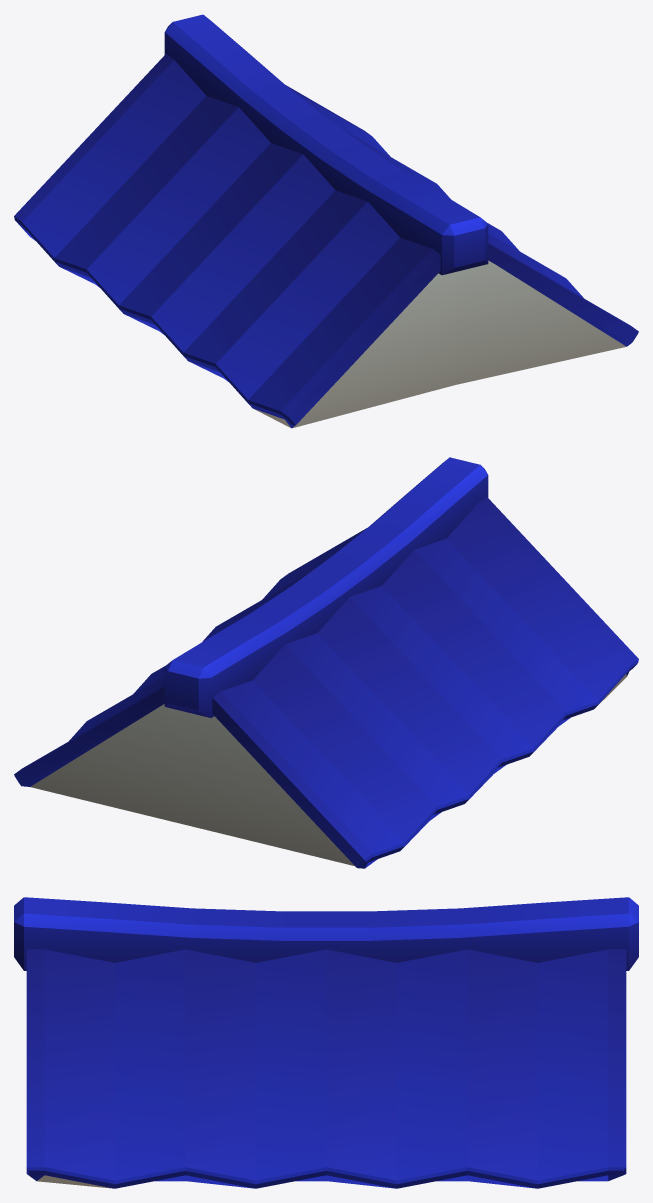
File: sp_build_prop_roof.fbx
3 views of the same model, one above another, from view 1: azimuth 30°, elevation 25°; view 2: azimuth 150°, elevation 25°; view 3: azimuth 270°, elevation 25° (orthographic). The views are drawn at different scales.
Parts seen in each view (by area): view 1: build_prop_roof_01; view 2: build_prop_roof_01; view 3: build_prop_roof_01.
Boxes of the visible parts, x1,y1,x2,y2 form: build_prop_roof_01: (14,14,638,428); build_prop_roof_01: (14,457,638,868); build_prop_roof_01: (14,897,638,1188).
Bounding box in the file's own units: 355 × 170 × 501.
